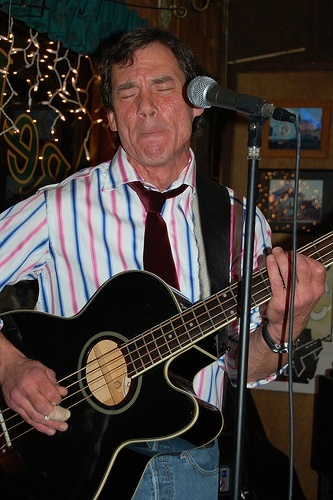head: (101, 25, 210, 168)
person: (3, 32, 318, 499)
